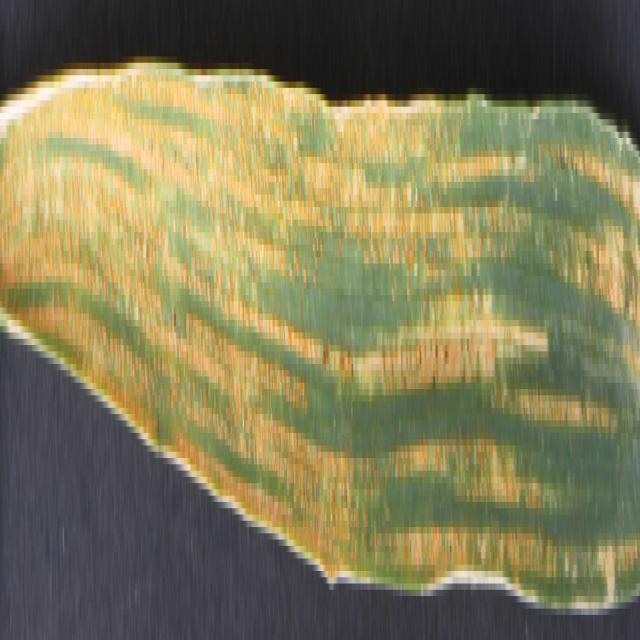leaf rust: (0, 50, 640, 602)
